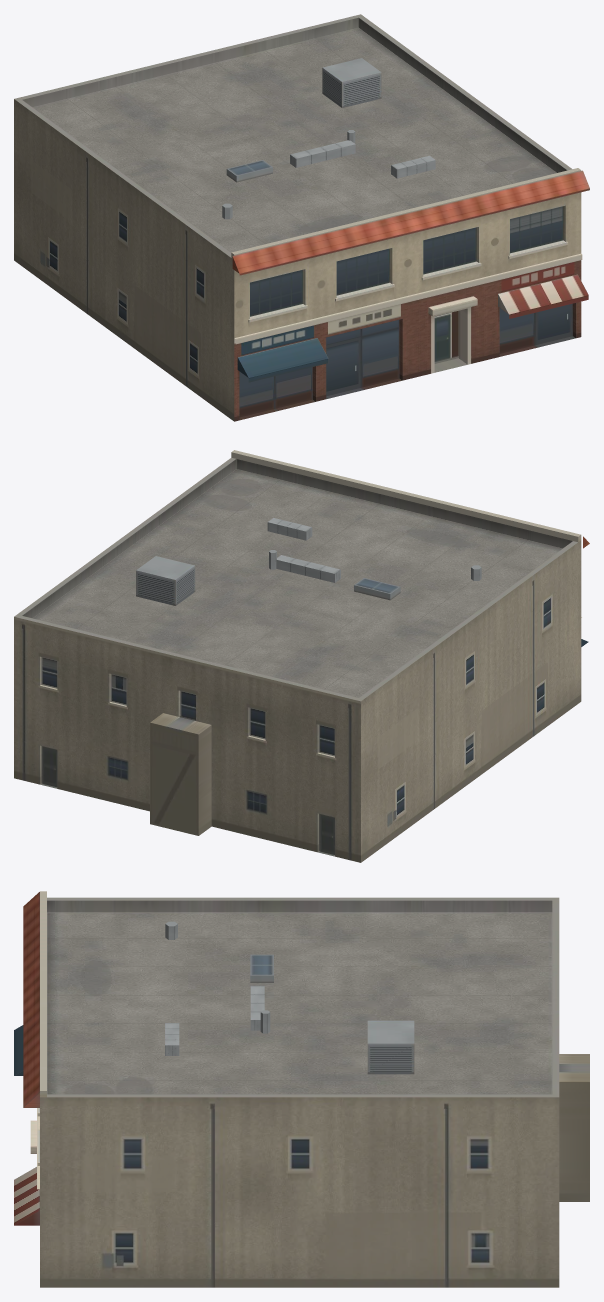
File: sf_lowrise_b.glb
The picture shows the model from 3 angles, top to bottom: view 1: azimuth 30°, elevation 25°; view 2: azimuth 150°, elevation 25°; view 3: azimuth 270°, elevation 25°; orthographic projection. The views are drawn at different scales.
Parts seen in each view (by area): view 1: sf_lowrise_b; view 2: sf_lowrise_b; view 3: sf_lowrise_b.
Boxes of the visible parts, x1=… form: sf_lowrise_b: x1=14, y1=14, x2=589, y2=421; sf_lowrise_b: x1=14, y1=450, x2=589, y2=862; sf_lowrise_b: x1=14, y1=891, x2=589, y2=1287.
Bounding box in the file's own units: 20.2 × 9.79 × 24.4.
1 material, 1 textured.
